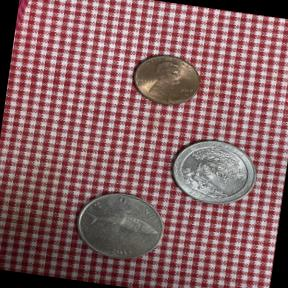coin: (65, 184, 174, 271), (162, 130, 263, 214), (124, 46, 207, 114)
